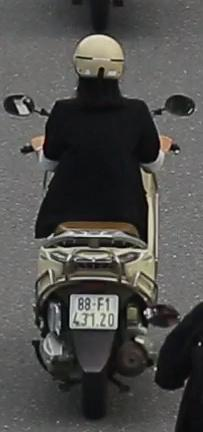LP: (67, 292, 120, 334)
helmet: (71, 30, 127, 104)
